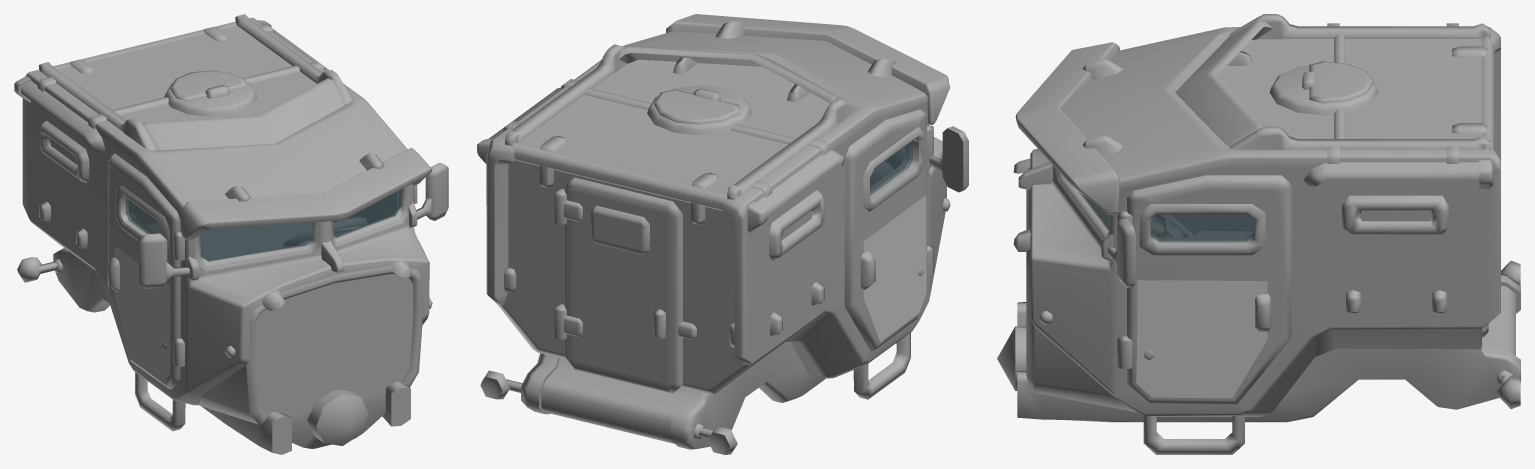
The model's file is Body_ArmorCar_Square.fbx.
3 renders of one model, left to right at view 1: azimuth 30°, elevation 25°; view 2: azimuth 150°, elevation 25°; view 3: azimuth 270°, elevation 25°, orthographic. The views are drawn at different scales.
Visible parts, largest first — view 1: ArmorCar_Square_Body, ArmorCar_Square_Body_Cap, ArmorCar_Square_Body_Door_Right, ArmorCar_Square_Body_Door_Right_Decal, ArmorCar_Square_Body_Window, ArmorCar_Square_Body_Door_Right_Window, ArmorCar_Square_Body_Door_Left, ArmorCar_Square_Body_SteerWheel; view 2: ArmorCar_Square_Body, ArmorCar_Square_Body_Door_Right, ArmorCar_Square_Body_Door_Right_Decal, ArmorCar_Square_Body_Cap, ArmorCar_Square_Body_Door_Right_Window; view 3: ArmorCar_Square_Body, ArmorCar_Square_Body_Door_Left, ArmorCar_Square_Body_Door_Left_Decal, ArmorCar_Square_Body_Cap, ArmorCar_Square_Body_Door_Left_Window, ArmorCar_Square_Body_Door_Right, ArmorCar_Square_Body_SteerWheel.
Part boxes in pixels (box(x1,y1,x2,y2)): ArmorCar_Square_Body: box(14, 14, 448, 454); ArmorCar_Square_Body_Cap: box(181, 147, 432, 240); ArmorCar_Square_Body_Door_Right: box(107, 153, 180, 389); ArmorCar_Square_Body_Door_Right_Decal: box(114, 246, 170, 380); ArmorCar_Square_Body_Window: box(200, 190, 401, 261); ArmorCar_Square_Body_Door_Right_Window: box(125, 198, 163, 236); ArmorCar_Square_Body_Door_Left: box(334, 192, 396, 233); ArmorCar_Square_Body_SteerWheel: box(282, 217, 367, 247); ArmorCar_Square_Body: box(477, 19, 968, 454); ArmorCar_Square_Body_Door_Right: box(844, 109, 926, 351); ArmorCar_Square_Body_Door_Right_Decal: box(863, 195, 926, 341); ArmorCar_Square_Body_Cap: box(666, 14, 950, 125); ArmorCar_Square_Body_Door_Right_Window: box(870, 141, 913, 195); ArmorCar_Square_Body: box(997, 14, 1520, 454); ArmorCar_Square_Body_Door_Left: box(1127, 175, 1291, 404); ArmorCar_Square_Body_Door_Left_Decal: box(1136, 280, 1267, 398); ArmorCar_Square_Body_Cap: box(1015, 42, 1119, 214); ArmorCar_Square_Body_Door_Left_Window: box(1150, 214, 1254, 242); ArmorCar_Square_Body_Door_Right: box(1151, 215, 1254, 235); ArmorCar_Square_Body_SteerWheel: box(1151, 215, 1195, 237).
Bounding box in the file's own units: 200 × 170 × 250.
